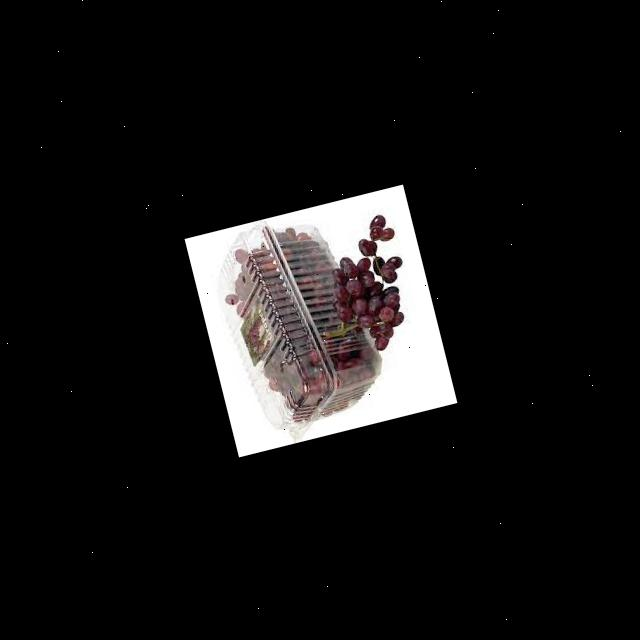grape: (313, 212, 422, 360)
